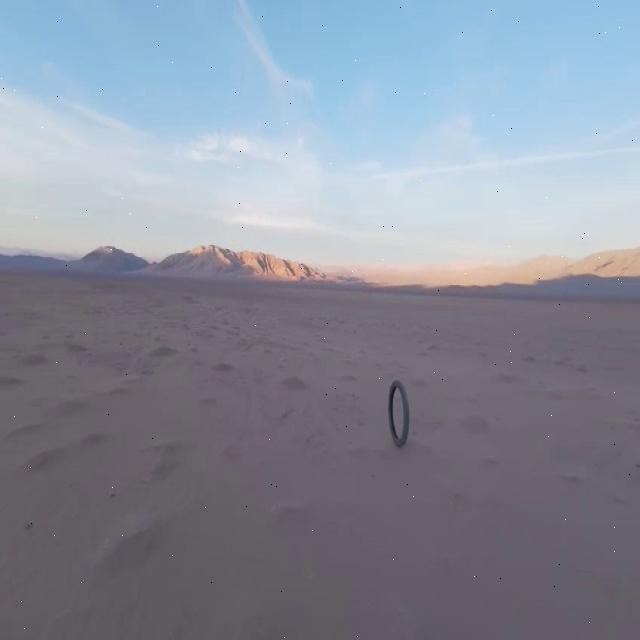Tire: (389, 380, 409, 446)
